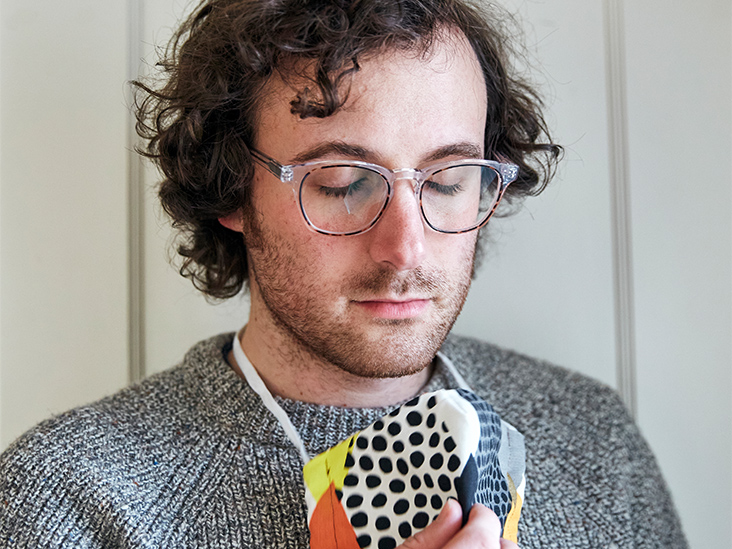without_mask: (215, 25, 472, 364)
